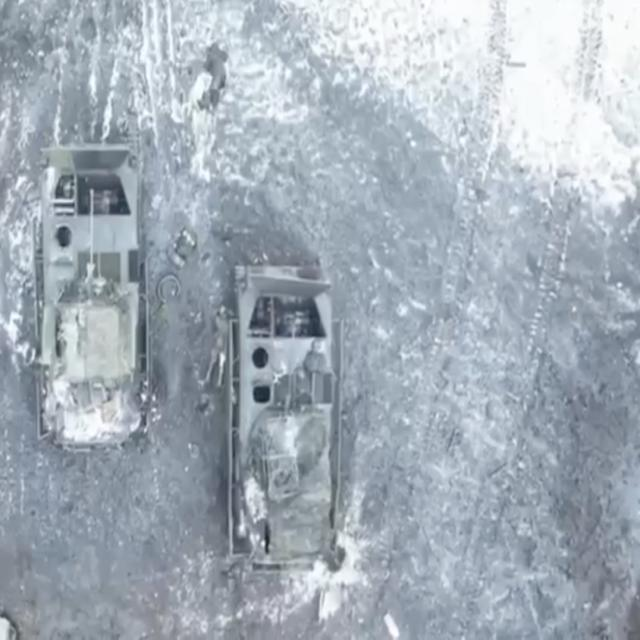infantry: (207, 299, 227, 387)
vehicle: (230, 254, 344, 567), (33, 144, 147, 449)
